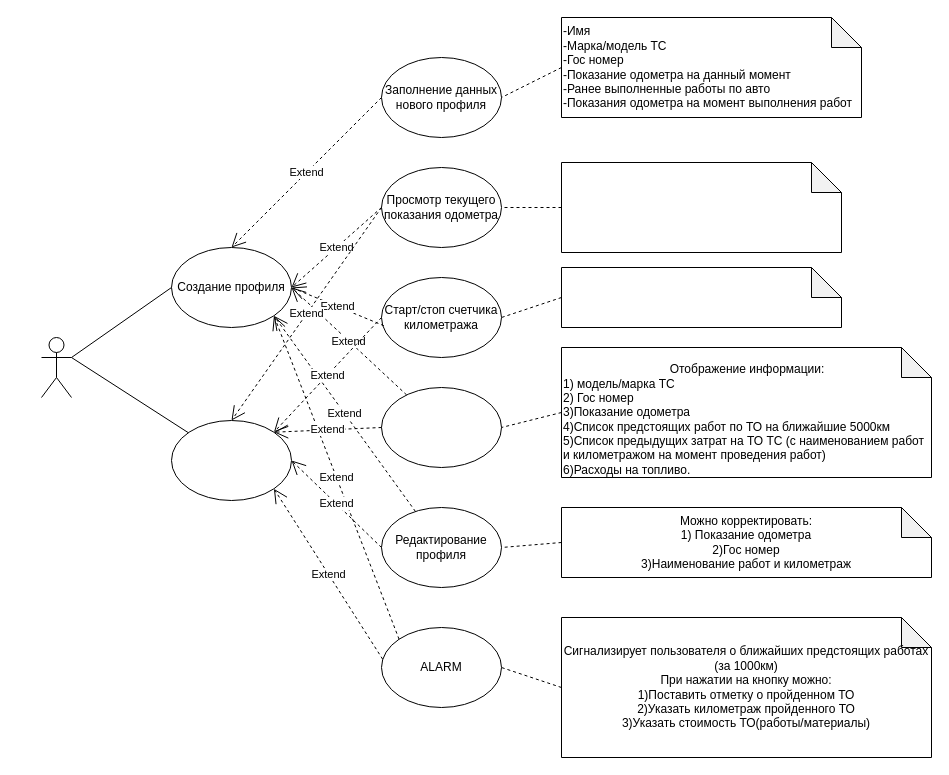
Image size: 949x775. Some labels were removed from this diagram. Here are the shapes that lost their labels. From the top down, the box of each, then its label:
(560, 162, 842, 252): Отображение показания одометра на текущий момент для пользователя
(560, 266, 842, 328): Кнопка старт/стоп счетчика километража
(40, 336, 72, 398): Пользователь
(380, 386, 502, 468): Борт-журнал
(170, 420, 292, 500): Войти в профиль
